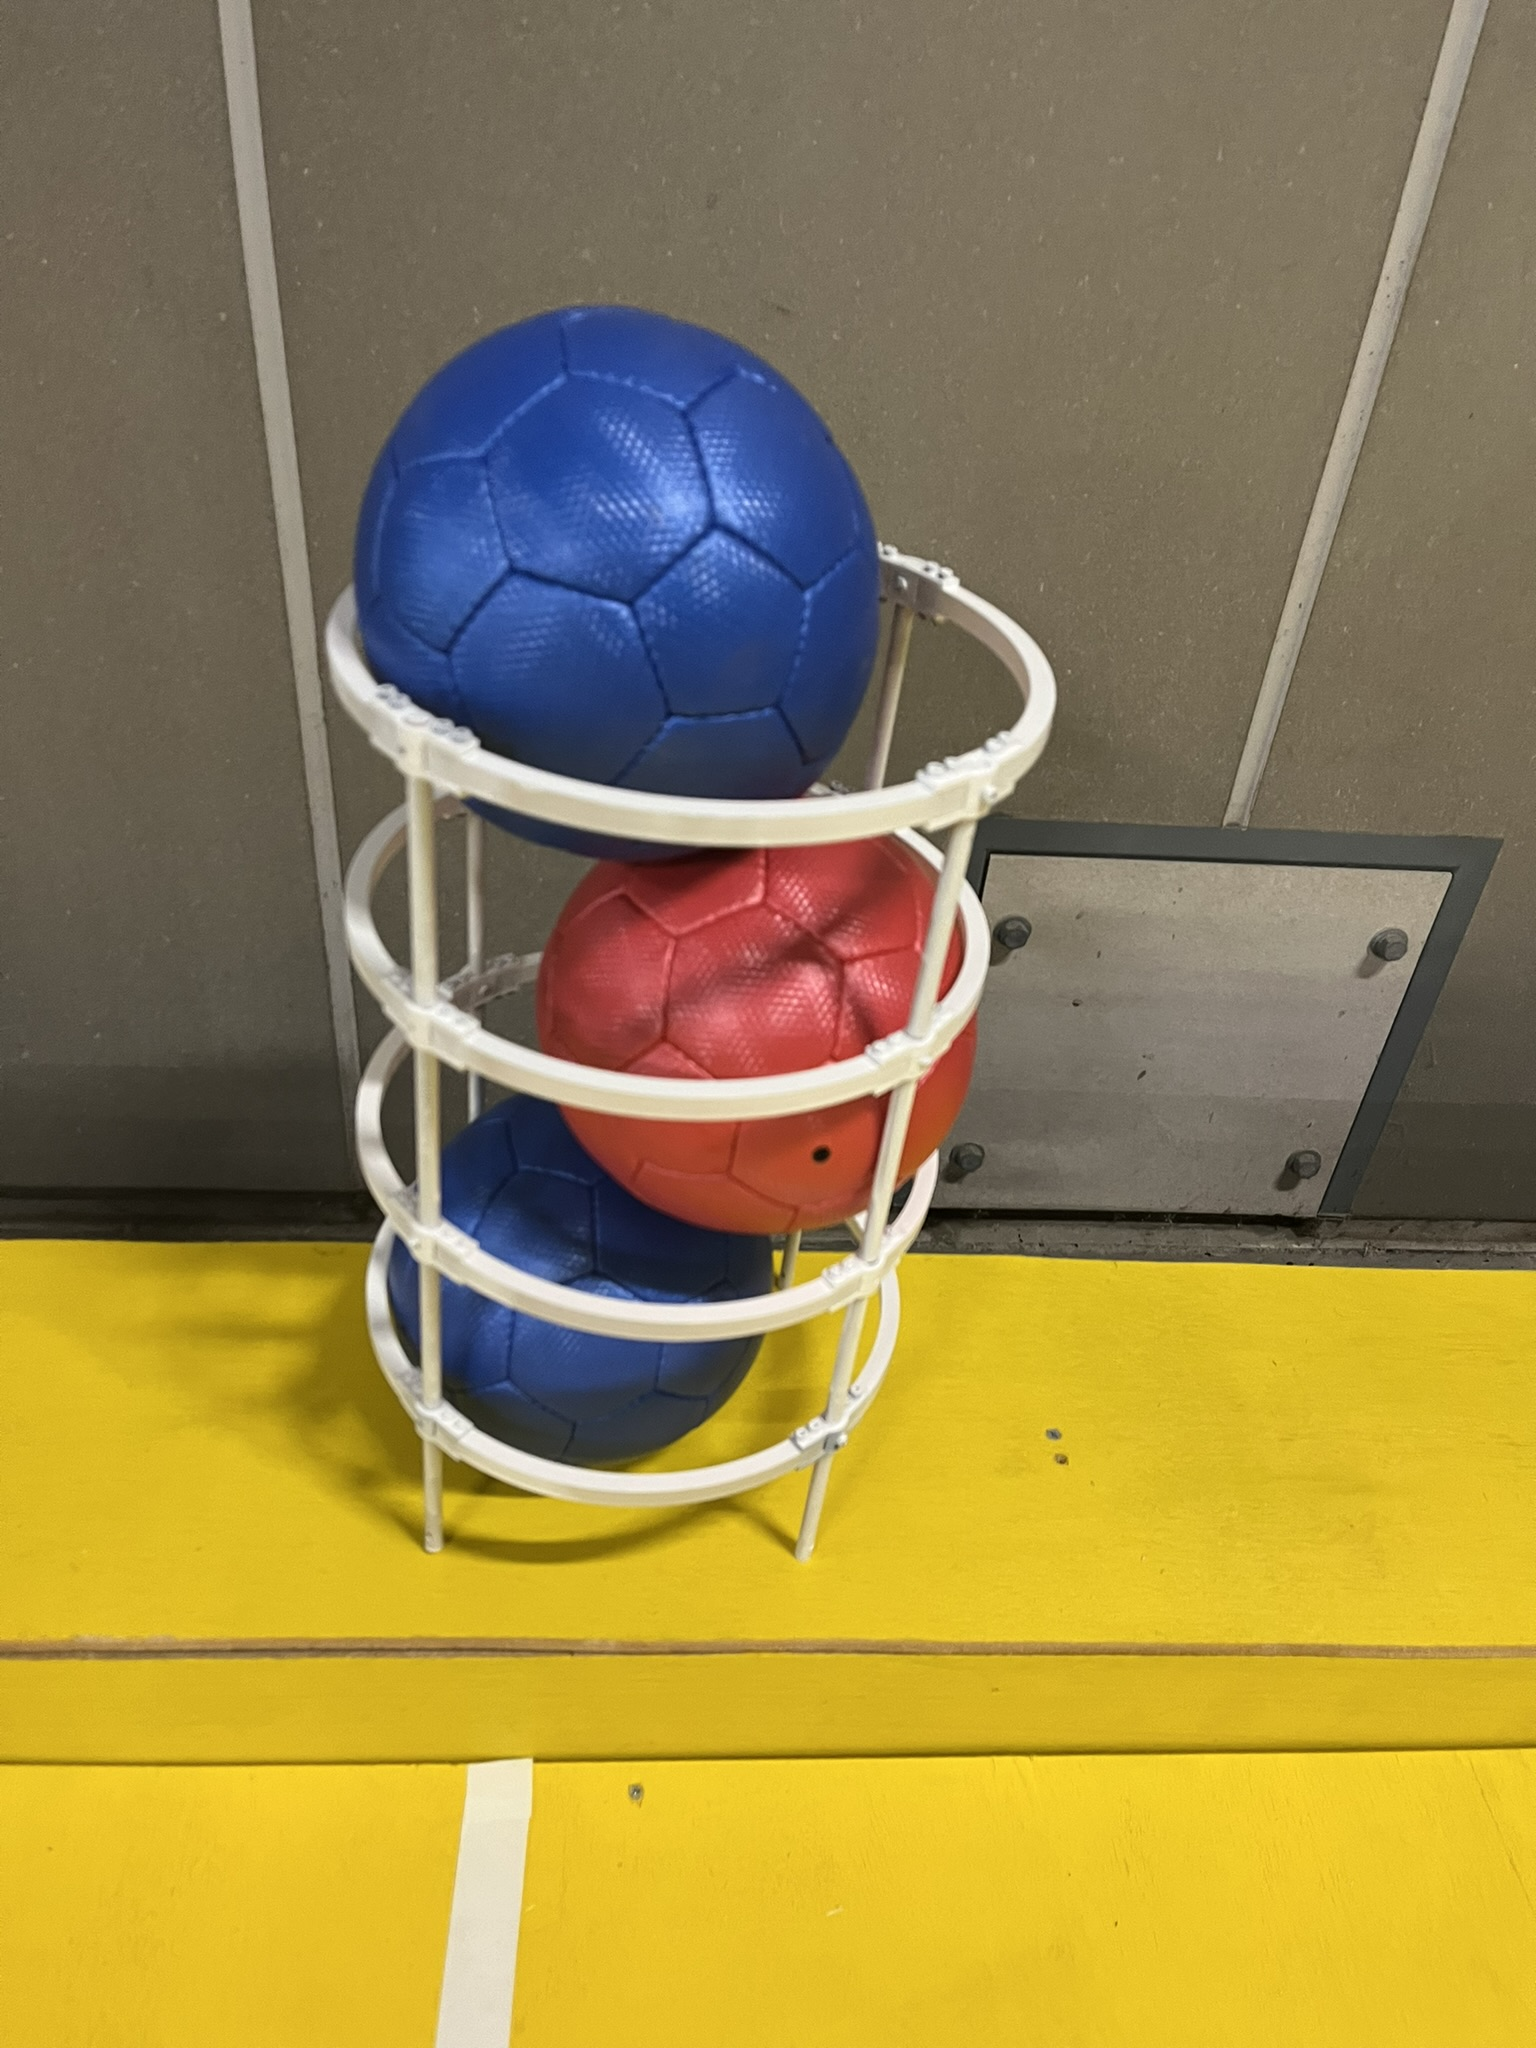blue: (310, 279, 907, 868), (365, 1051, 789, 1484)
